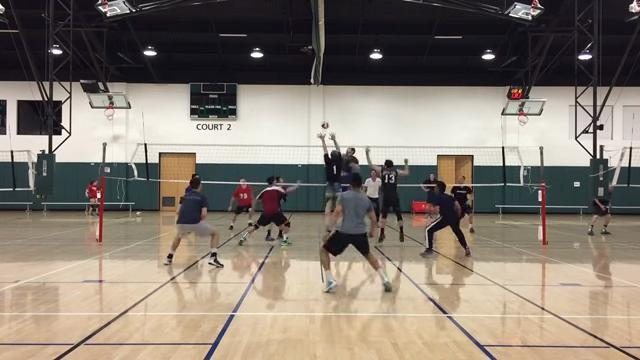attacco: (335, 138, 361, 193)
muro: (362, 141, 412, 247), (313, 126, 343, 235)
